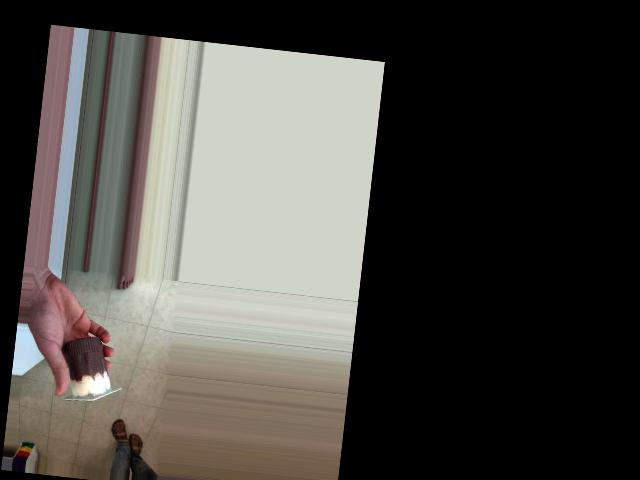milky: (55, 325, 123, 407)
